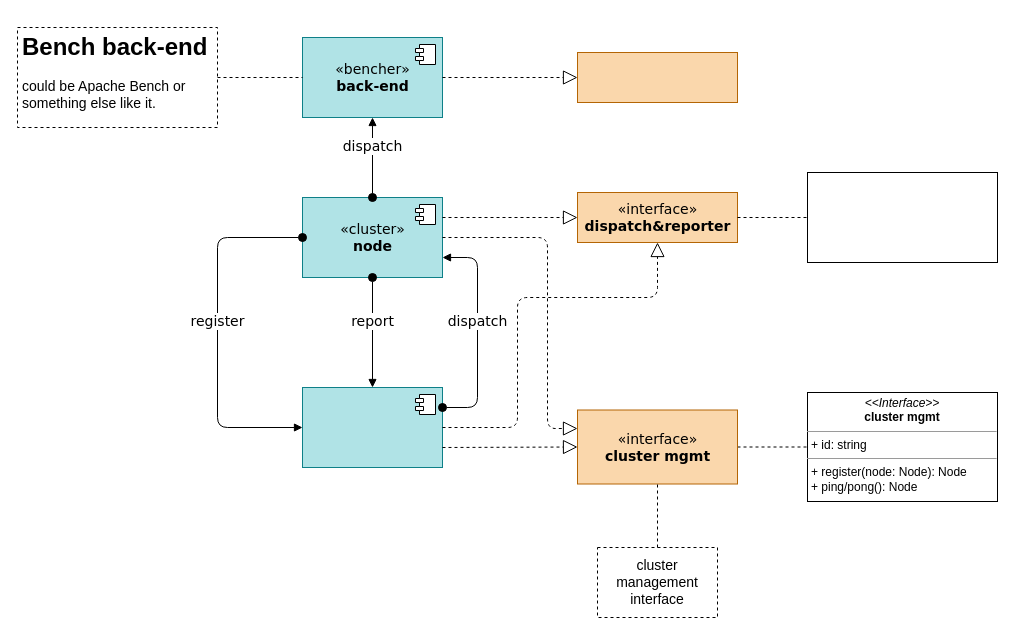
Some shapes in this 1015 by 635 pixel diagram are drawn without their labels. The box of each missing label's shape, as (x1, y1, x2, y2) in pixels:
<<Interface>> bench + bench(args: Config): Node + report(status: Status): void: (806, 172, 998, 262)
«cluster» commander: (302, 386, 442, 468)
«interface» bench: (576, 52, 738, 102)
